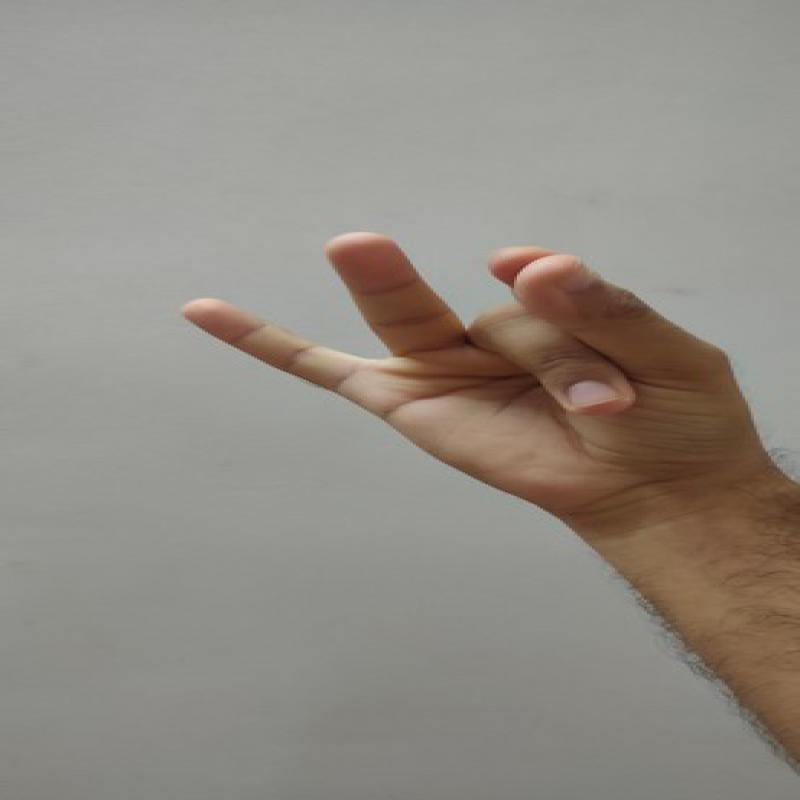Katakam: (152, 225, 762, 522)
